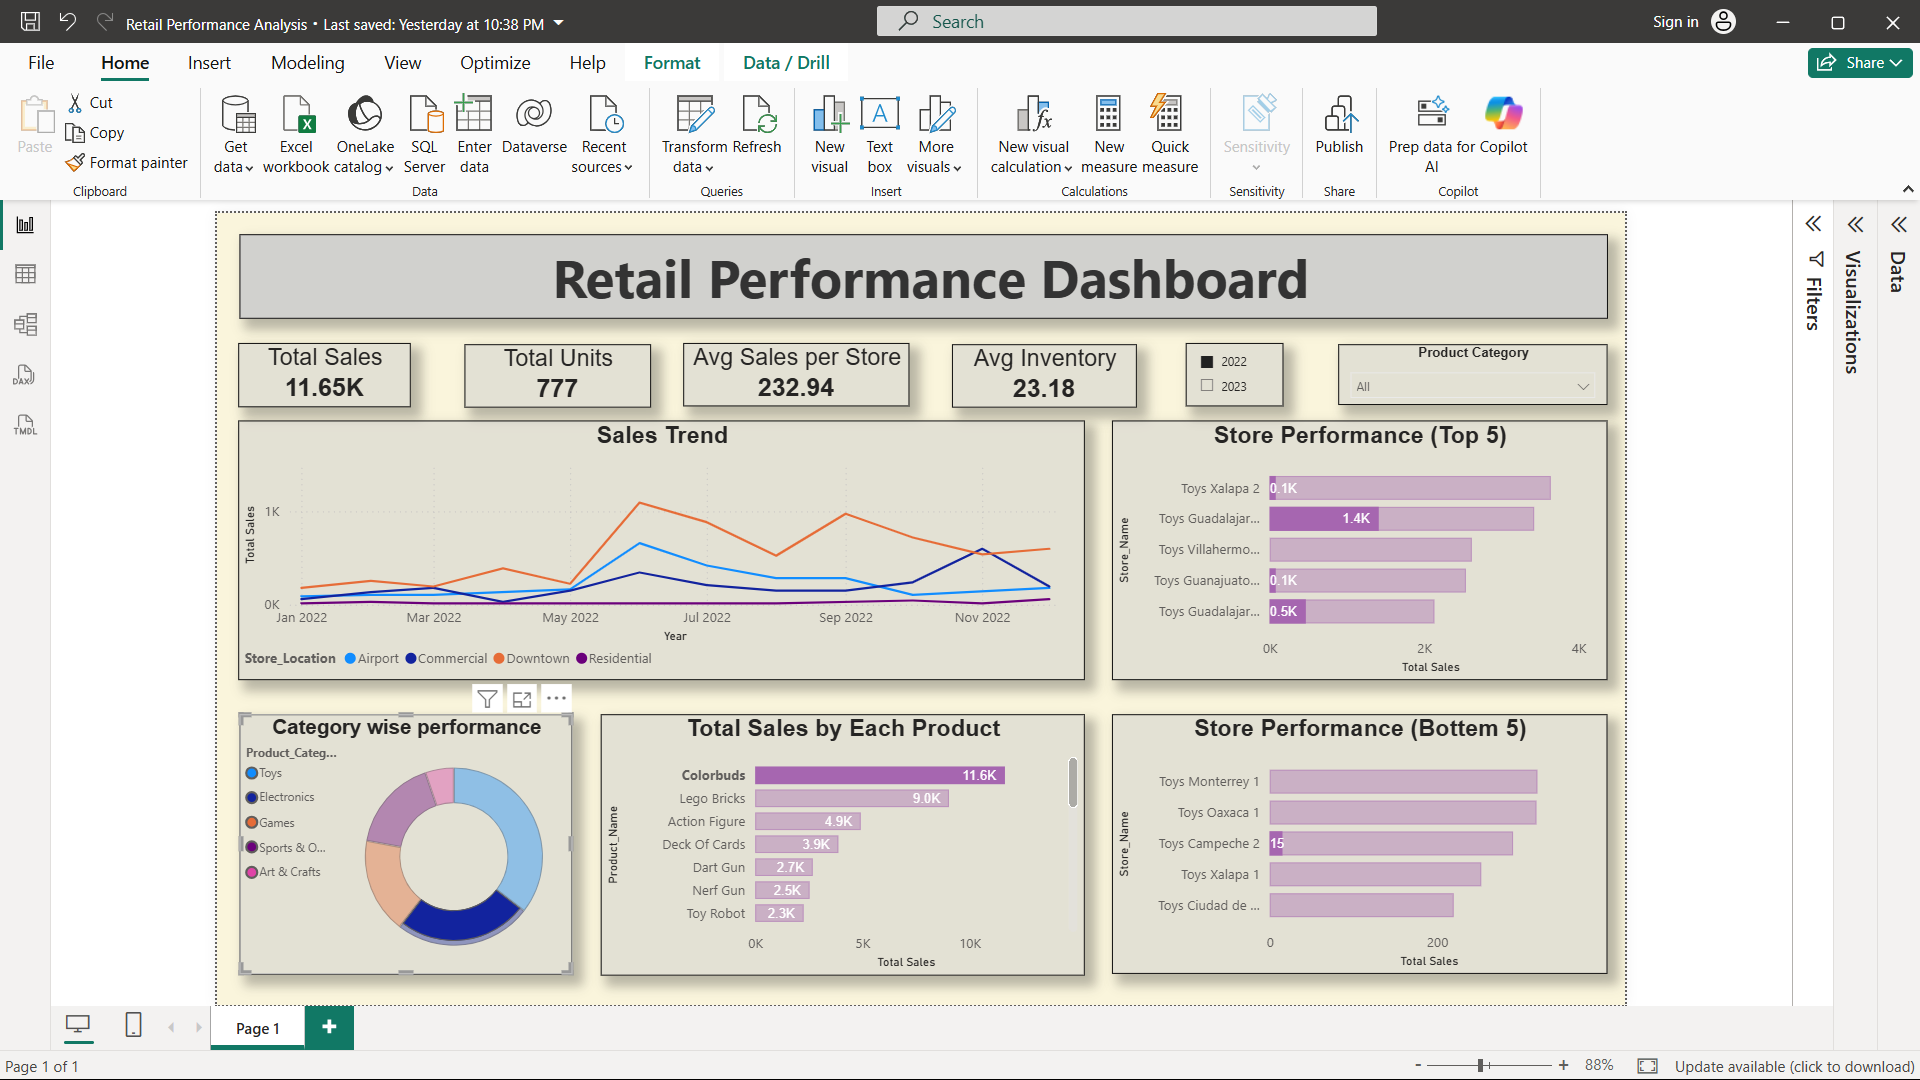

This screenshot's page, from the dashboard's own definition file:
{"tool":"powerbi","page":{"name":"Page 1","canvas":[1280,720],"ordinal":0},"visuals":[{"type":"textbox","box":[20.2,18.8,1244,76.7],"z":0},{"type":"card","title":"Avg Inventory","fields":{"Values":["Inventory.Avg Inventory"]},"box":[668.4,119.7,168.1,57.8],"z":1000},{"type":"card","title":"Total Units","fields":{"Values":["Sales.Total Units"]},"box":[224.6,119.7,169.4,57.8],"z":2000},{"type":"card","title":"Total Sales","fields":{"Values":["Sales.Total Sales"]},"box":[19.8,118.6,157,58.1],"z":3000},{"type":"card","title":"Avg Sales per Store","fields":{"Values":["Sales.Avg Sales per Store"]},"box":[423.6,118.3,205.8,57.8],"z":4000},{"type":"lineChart","title":"Sales Trend","fields":{"Y":["Sales.Total Sales"],"Category":["Sales.Date.Variation.Date Hierarchy.Year","Sales.Date.Variation.Date Hierarchy.Month"],"Series":["Stores.Store_Location"]},"box":[19.8,188.4,769.8,236],"z":5000},{"type":"barChart","title":"Store Performance (Top 5)","fields":{"Category":["Stores.Store_Name"],"Y":["Sales.Total Sales"]},"box":[814,188.4,450,236],"z":6000},{"type":"donutChart","title":"Category wise performance","fields":{"Category":["Products.Product_Category"],"Y":["Sales.Total Sales"]},"box":[20.2,455.9,302.6,236.7],"z":7000},{"type":"clusteredBarChart","title":"Total Sales by Each Product","fields":{"Category":["Products.Product_Name"],"Y":["Sales.Total Sales"]},"box":[349.4,455.7,439.8,237.4],"z":8000},{"type":"barChart","title":"Store Performance (Bottem 5)","fields":{"Category":["Stores.Store_Name"],"Y":["Sales.Total Sales"]},"box":[814,455.8,450,236],"z":9000},{"type":"slicer","fields":{"Values":["Sales.Date.Variation.Date Hierarchy.Year"]},"box":[880.9,118.3,88.8,57.8],"z":10000},{"type":"slicer","title":"Product Category","fields":{"Values":["Products.Product_Category"]},"box":[1019.4,119.7,244.8,55.1],"z":11000}]}

Visuals, with their boxes on the page's 1280x720 design canvas (x1, y1, x2, y2). These are canvas units, not pixel positions in the 1920x1080 screenshot, which may show the page scaled, cropped or inside an application window:
textbox: <region>20, 19, 1264, 96</region>
"Avg Inventory" card: <region>668, 120, 836, 178</region>
"Total Units" card: <region>225, 120, 394, 178</region>
"Total Sales" card: <region>20, 119, 177, 177</region>
"Avg Sales per Store" card: <region>424, 118, 629, 176</region>
"Sales Trend" lineChart: <region>20, 188, 790, 424</region>
"Store Performance (Top 5)" barChart: <region>814, 188, 1264, 424</region>
"Category wise performance" donutChart: <region>20, 456, 323, 693</region>
"Total Sales by Each Product" clusteredBarChart: <region>349, 456, 789, 693</region>
"Store Performance (Bottem 5)" barChart: <region>814, 456, 1264, 692</region>
slicer - Sales.Date.Variation.Date Hierarchy.Year: <region>881, 118, 970, 176</region>
"Product Category" slicer: <region>1019, 120, 1264, 175</region>
